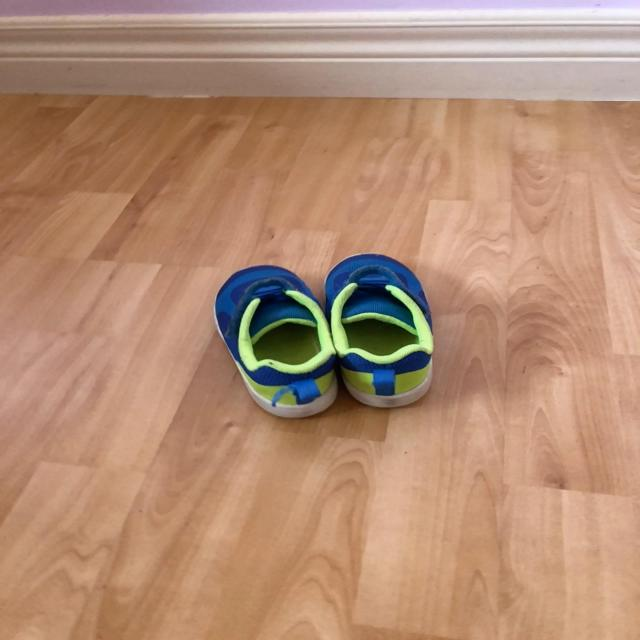shoe: (212, 267, 340, 421), (323, 255, 436, 411)
